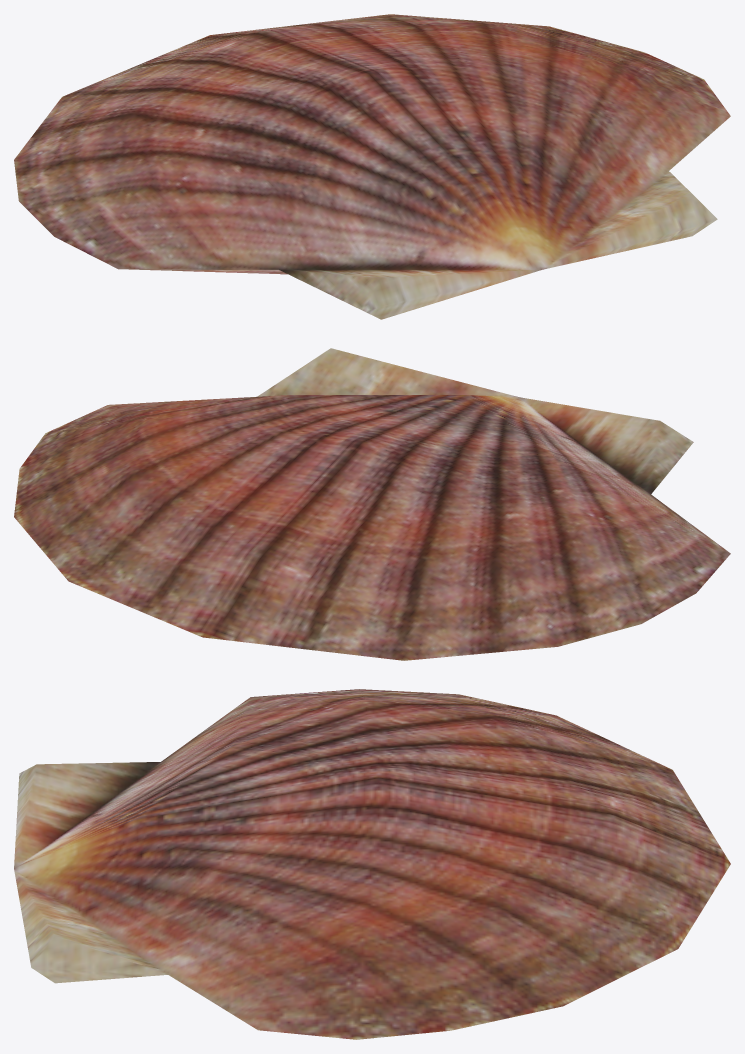
Rendered from SeaShell-01_LOD0_FattooCreater.glb.
3 renders of one model, top to bottom at view 1: azimuth 30°, elevation 25°; view 2: azimuth 150°, elevation 25°; view 3: azimuth 270°, elevation 25°, orthographic. The views are drawn at different scales.
Parts seen in each view (by area): view 1: SeaShell-01_high; view 2: SeaShell-01_high; view 3: SeaShell-01_high.
Boxes of the visible parts, box(x1,y1,x2,y2) form: SeaShell-01_high: box(14, 14, 730, 319); SeaShell-01_high: box(14, 348, 730, 660); SeaShell-01_high: box(14, 689, 730, 1039).
Size of the model in its own units: 0.0229 by 0.00526 by 0.0198.
1 material, 1 textured.
